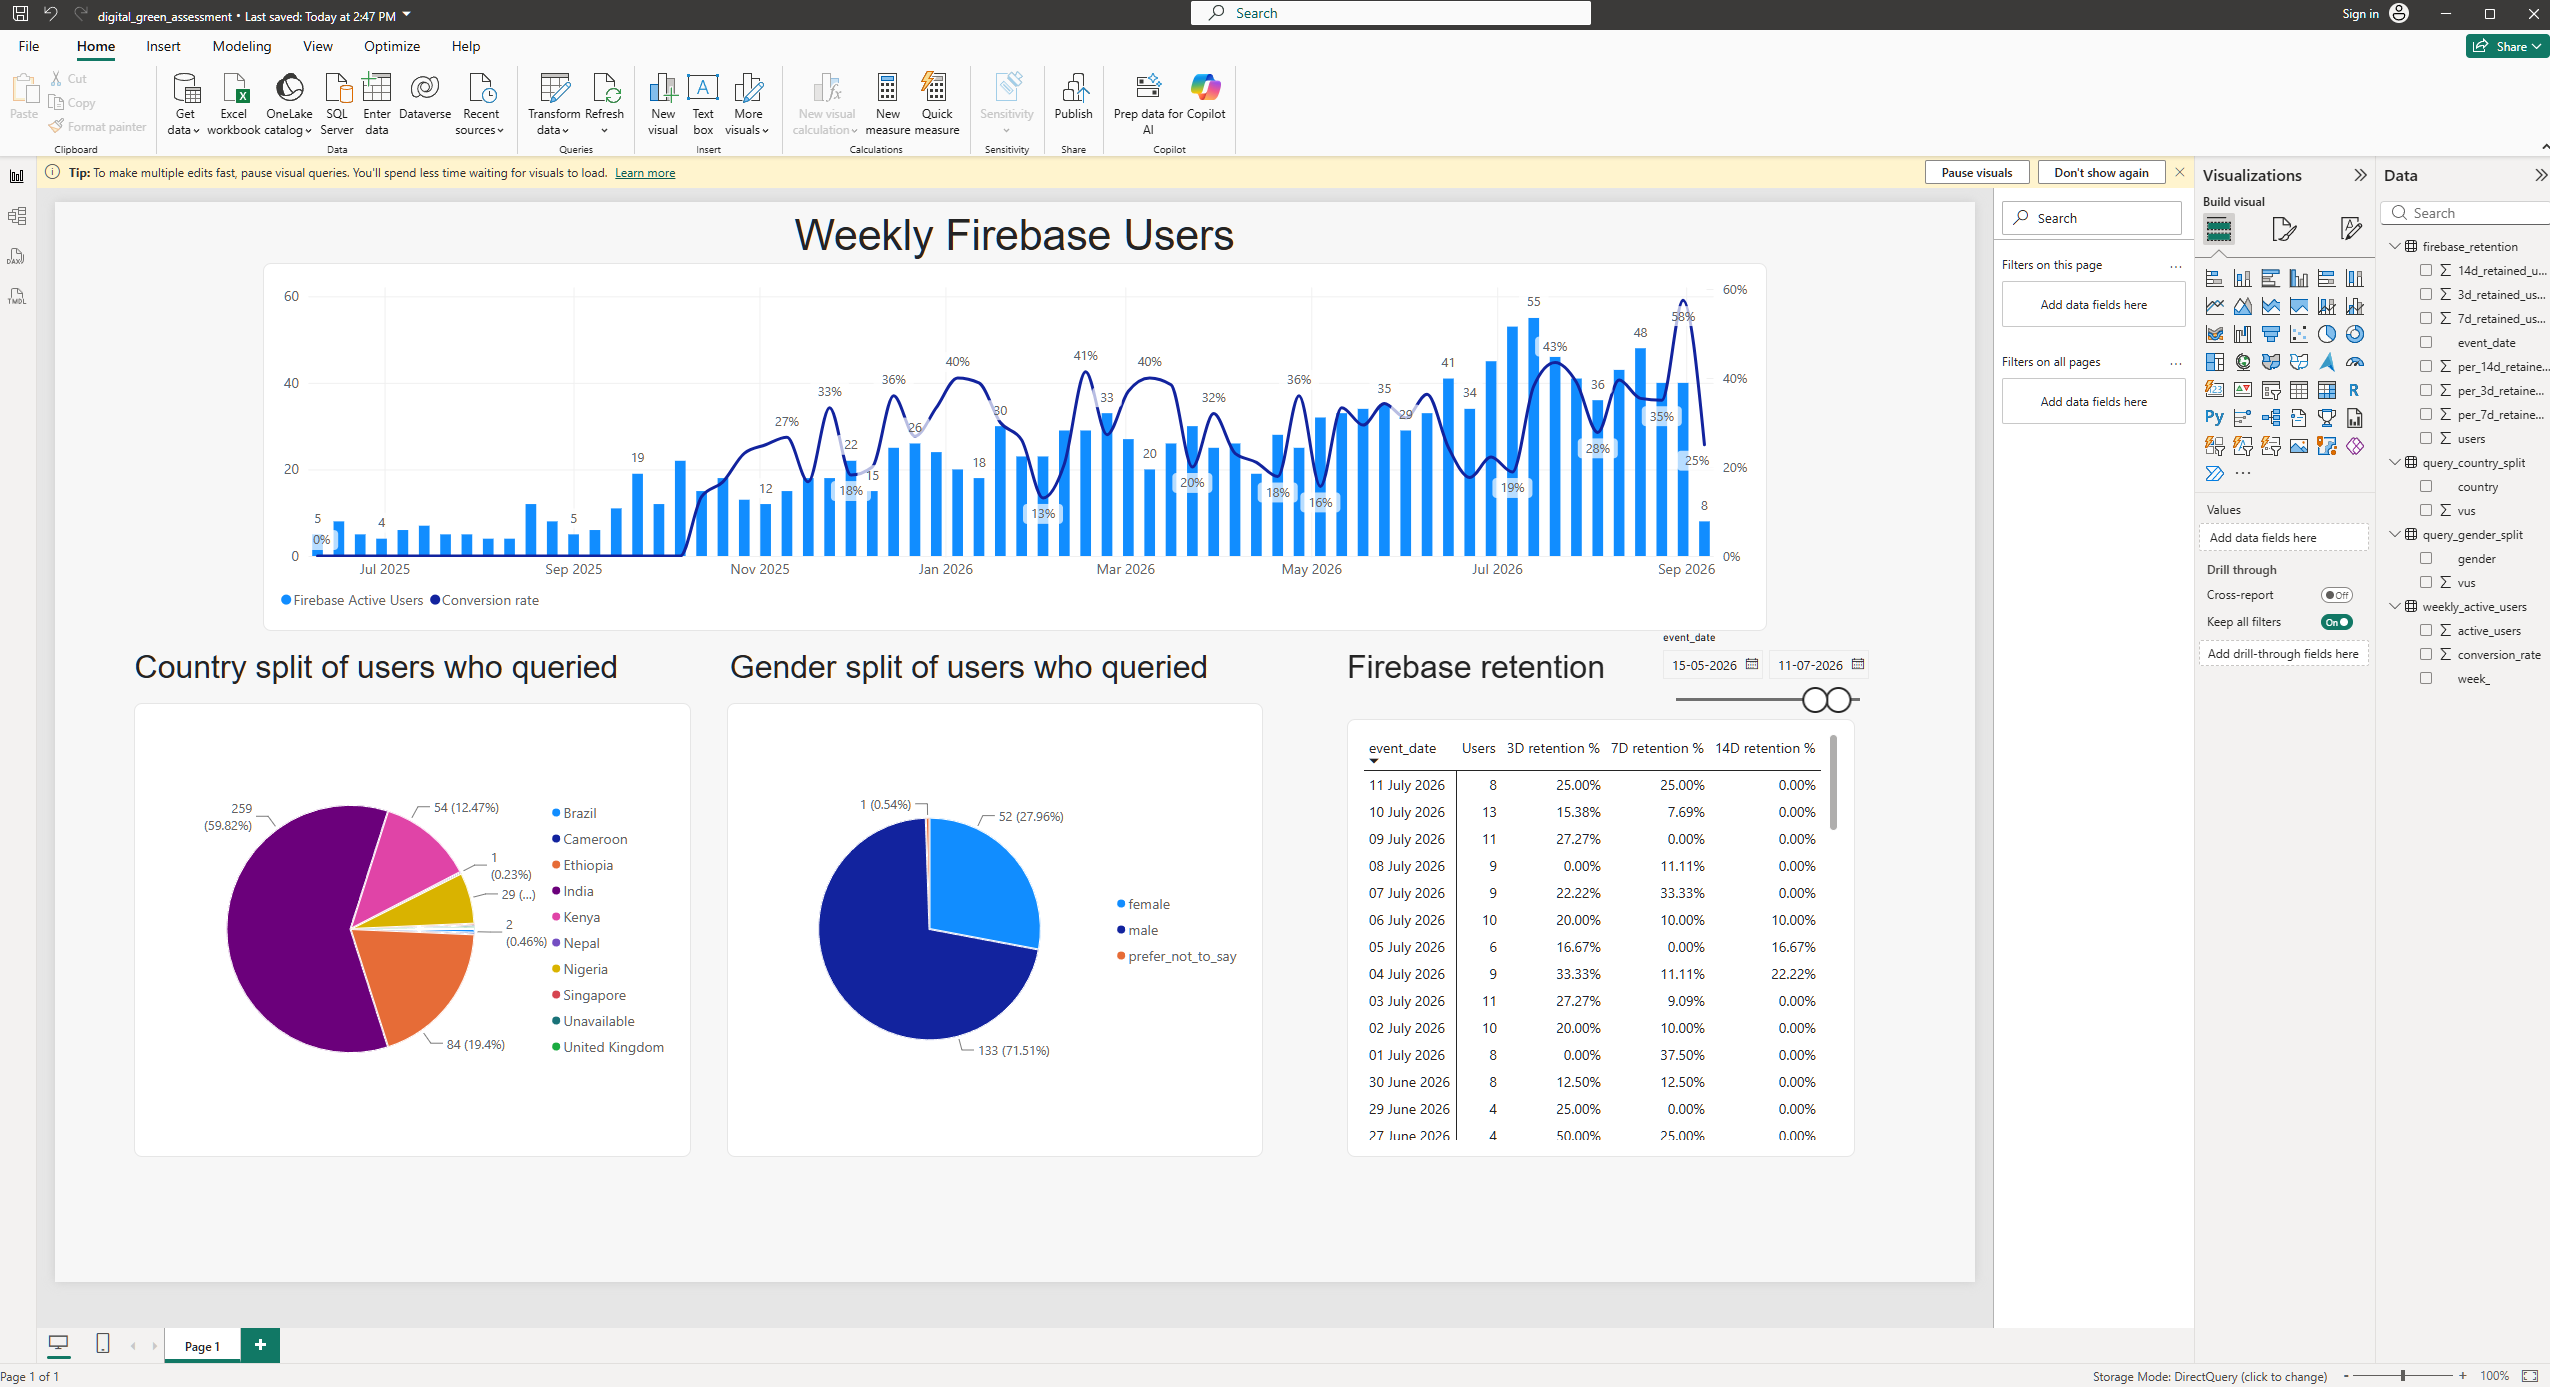

What the dashboard file says about the page in this screenshot:
{"tool":"powerbi","page":{"name":"Page 1","canvas":[1920,1080],"ordinal":0},"visuals":[{"type":"lineStackedColumnComboChart","fields":{"Category":["weekly_active_users.week_"],"Y":["Sum(weekly_active_users.active_users)"],"Y2":["Sum(weekly_active_users.conversion_rate)"]},"box":[208,61,1504,368],"z":0},{"type":"textbox","box":[627,9,665,85],"z":1000},{"type":"pieChart","fields":{"Series":["query_country_split.country"],"Y":["Sum(query_country_split.vus)"]},"box":[79,501,557,454],"z":2000},{"type":"pieChart","fields":{"Series":["query_gender_split.gender"],"Y":["Sum(query_gender_split.vus)"]},"box":[672,501,536,454],"z":3000},{"type":"textbox","box":[43,447,557,54],"z":4000},{"type":"textbox","box":[655,447,518,54],"z":5000},{"type":"pivotTable","fields":{"Rows":["firebase_retention.event_date"],"Values":["Sum(firebase_retention.users)","Sum(firebase_retention.per_3d_retained_users)","Sum(firebase_retention.per_7d_retained_users)","Sum(firebase_retention.per_14d_retained_users)"]},"box":[1292,517,508,438],"z":5001},{"type":"slicer","fields":{"Values":["firebase_retention.event_date"]},"box":[1600,429,223,87],"z":5002},{"type":"textbox","box":[1292,447,543,42],"z":5003}]}

Visuals, with their boxes on the page's 1920x1080 design canvas (x1, y1, x2, y2). These are canvas units, not pixel positions in the 2550x1387 screenshot, which may show the page scaled, cropped or inside an application window:
lineStackedColumnComboChart - weekly_active_users.week_ x Sum(weekly_active_users.active_users): {"left": 208, "top": 61, "right": 1712, "bottom": 429}
textbox: {"left": 627, "top": 9, "right": 1292, "bottom": 94}
pieChart - query_country_split.country x Sum(query_country_split.vus): {"left": 79, "top": 501, "right": 636, "bottom": 955}
pieChart - query_gender_split.gender x Sum(query_gender_split.vus): {"left": 672, "top": 501, "right": 1208, "bottom": 955}
textbox: {"left": 43, "top": 447, "right": 600, "bottom": 501}
textbox: {"left": 655, "top": 447, "right": 1173, "bottom": 501}
pivotTable - firebase_retention.event_date x Sum(firebase_retention.users): {"left": 1292, "top": 517, "right": 1800, "bottom": 955}
slicer - firebase_retention.event_date: {"left": 1600, "top": 429, "right": 1823, "bottom": 516}
textbox: {"left": 1292, "top": 447, "right": 1835, "bottom": 489}
